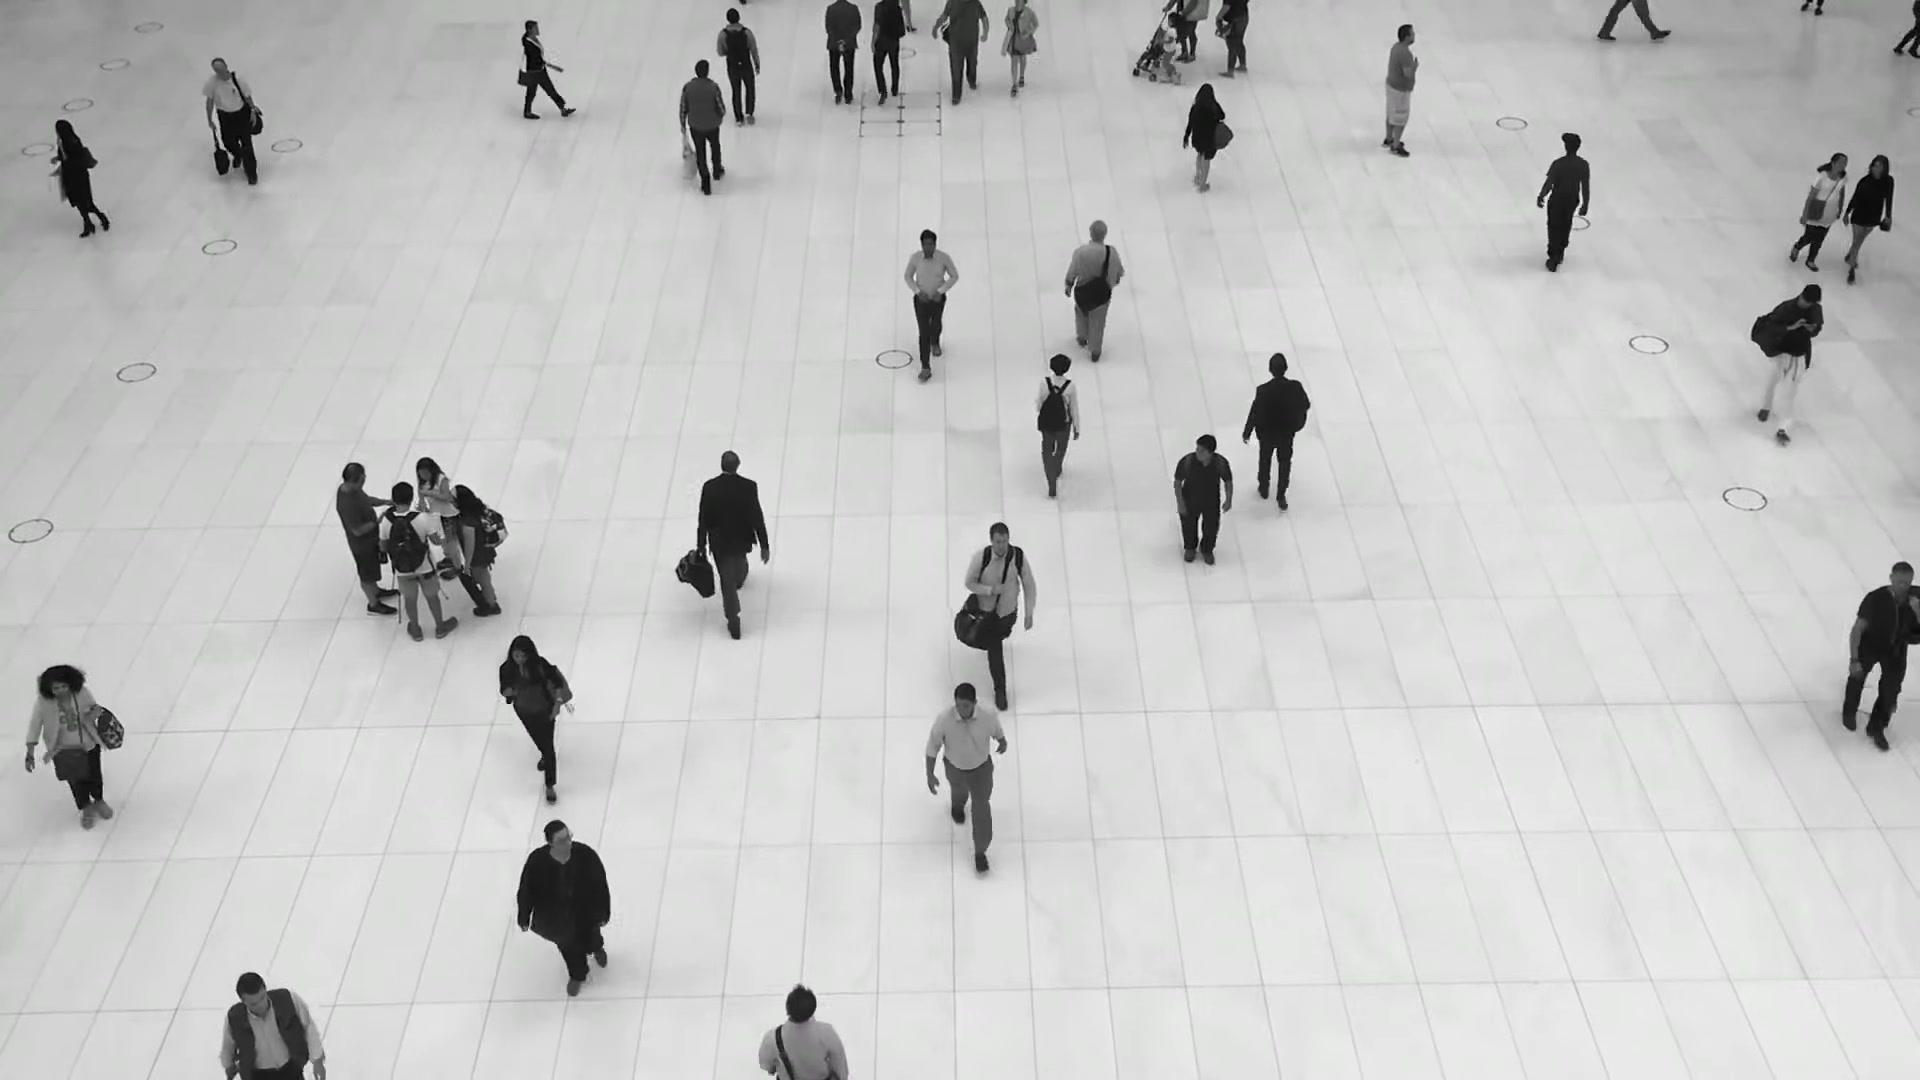person: (517, 820, 616, 1018), (1835, 567, 1919, 761), (925, 678, 1013, 853), (24, 664, 114, 830), (964, 517, 1036, 699), (698, 446, 770, 627), (378, 481, 459, 641), (497, 634, 575, 796), (1750, 283, 1826, 438), (1246, 355, 1312, 521), (223, 972, 322, 1080), (335, 465, 400, 615), (1170, 436, 1235, 582), (756, 982, 848, 1080), (900, 226, 960, 372), (1064, 222, 1123, 370), (1535, 132, 1591, 280), (201, 56, 258, 186), (1789, 152, 1847, 278), (449, 484, 502, 617), (1032, 352, 1081, 498), (52, 117, 110, 239), (1840, 153, 1894, 278), (678, 59, 727, 197), (932, 0, 991, 104), (1183, 83, 1234, 198), (717, 9, 762, 133), (1381, 23, 1421, 157), (514, 17, 567, 119), (418, 457, 459, 580), (823, 0, 861, 110), (867, 0, 904, 106), (1000, 0, 1039, 96), (1155, 12, 1181, 85)
